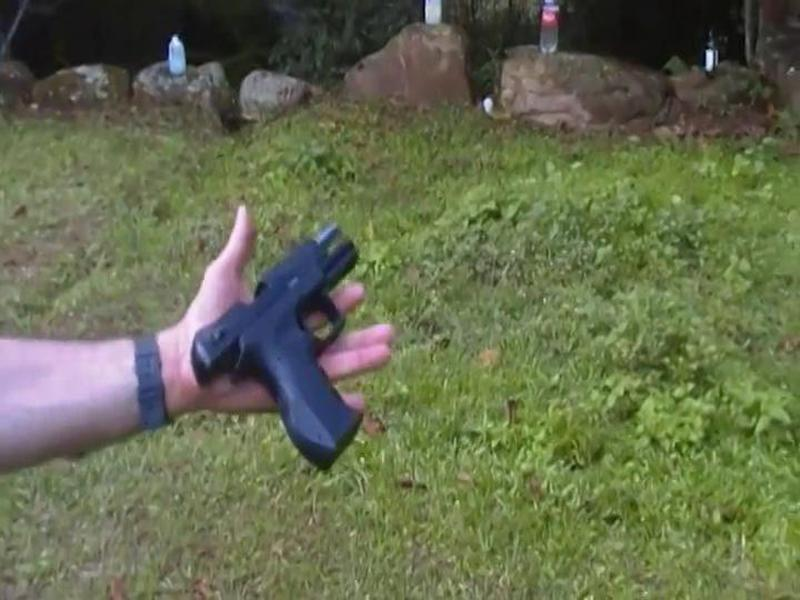Pistola: (188, 216, 378, 473)
